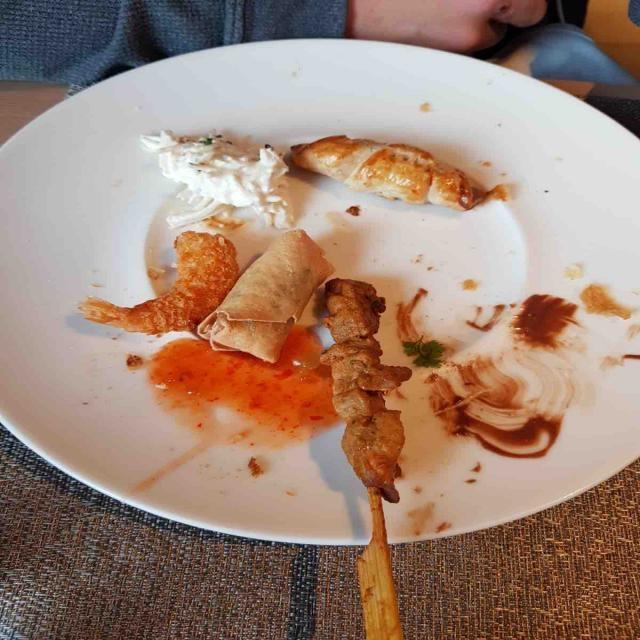croissant: (297, 133, 482, 208), (96, 232, 235, 328)
kolhrabi: (145, 134, 292, 221)
sauce: (435, 296, 574, 467), (145, 336, 331, 443)
spring-roll-fried: (190, 232, 339, 368)
